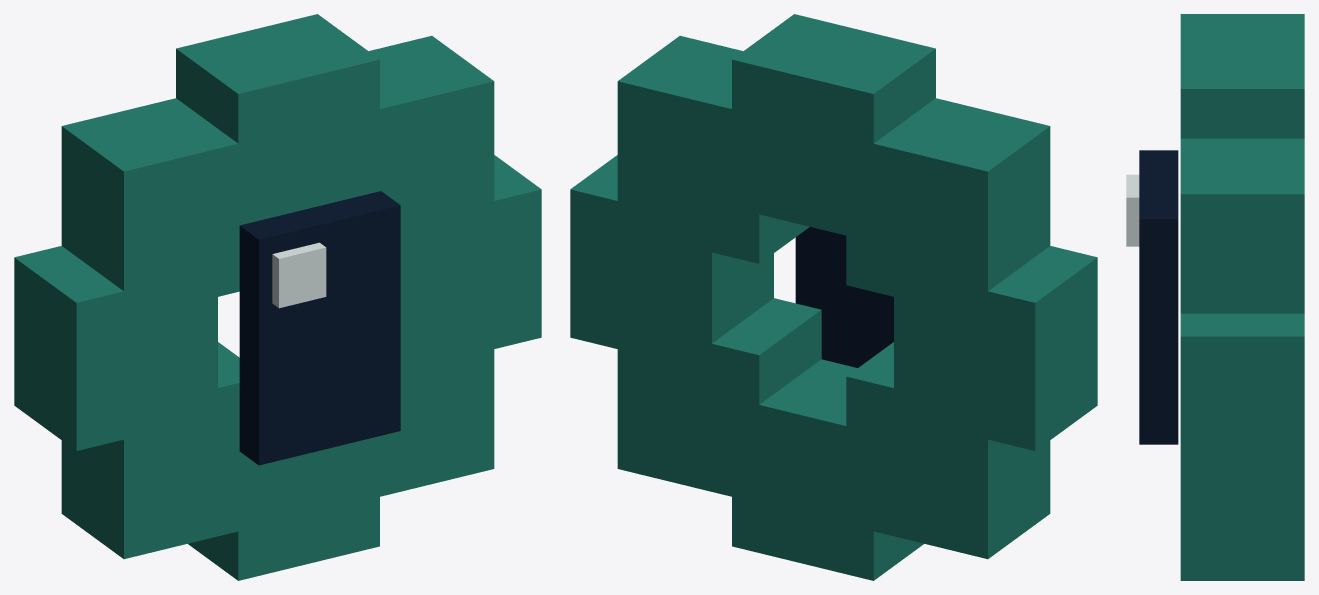
Rendered from eye_of_ender.glb.
The picture shows the model from 3 angles, left to right: view 1: azimuth 30°, elevation 25°; view 2: azimuth 150°, elevation 25°; view 3: azimuth 270°, elevation 25°; orthographic projection.
Visible parts, largest first — view 1: eye_of_ender; view 2: eye_of_ender; view 3: eye_of_ender.
Boxes of the visible parts, bbox=[...] form: eye_of_ender: bbox=[14, 14, 541, 580]; eye_of_ender: bbox=[570, 14, 1097, 580]; eye_of_ender: bbox=[1126, 14, 1304, 580].
Bounding box in the file's own units: 0.345 × 0.345 × 0.115.
